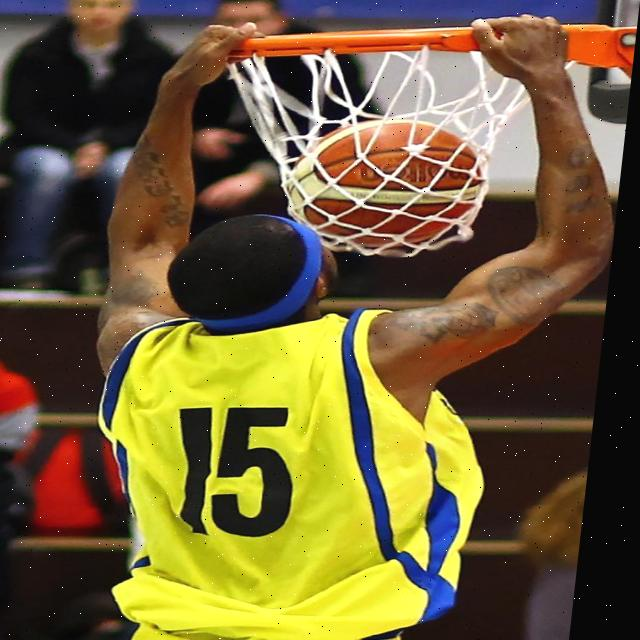basketball: (268, 116, 497, 255)
hoop: (170, 19, 597, 263), (169, 19, 593, 264)
